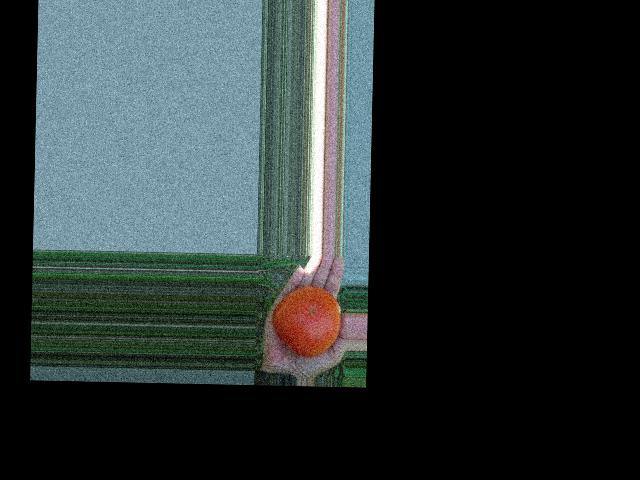tomato: (271, 285, 341, 357)
